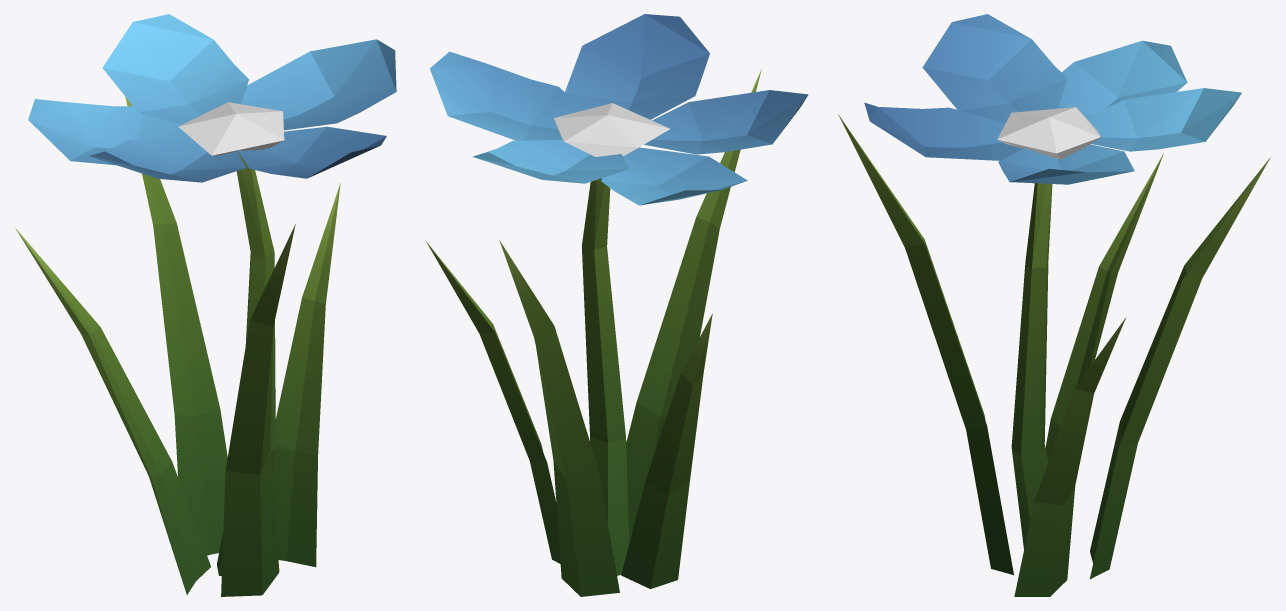
File: Mesh_Nature_Flower_03.FBX
3 renders of one model, left to right at view 1: azimuth 30°, elevation 25°; view 2: azimuth 150°, elevation 25°; view 3: azimuth 270°, elevation 25°, orthographic.
Visible parts, largest first — view 1: Mesh_Nature_Flower_03; view 2: Mesh_Nature_Flower_03; view 3: Mesh_Nature_Flower_03.
Part boxes in pixels (x1,y1,x2,y2): Mesh_Nature_Flower_03: (15, 14, 396, 596); Mesh_Nature_Flower_03: (425, 14, 808, 596); Mesh_Nature_Flower_03: (838, 14, 1270, 596).
Size of what is drawn, in the model's own units: 27.75 by 32.68 by 39.81.
